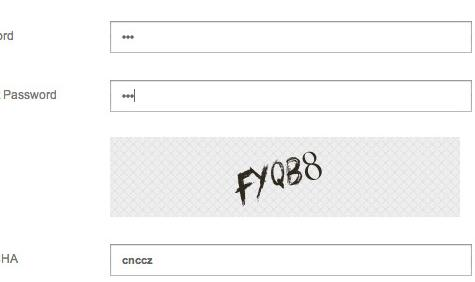field: (107, 79, 475, 114), (106, 20, 473, 54), (107, 243, 473, 277)
